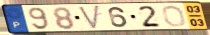2: (136, 5, 161, 28)
6: (107, 6, 129, 29)
8: (52, 6, 77, 31)
9: (27, 7, 51, 31)
O: (161, 5, 188, 28)
V: (77, 4, 102, 31)
